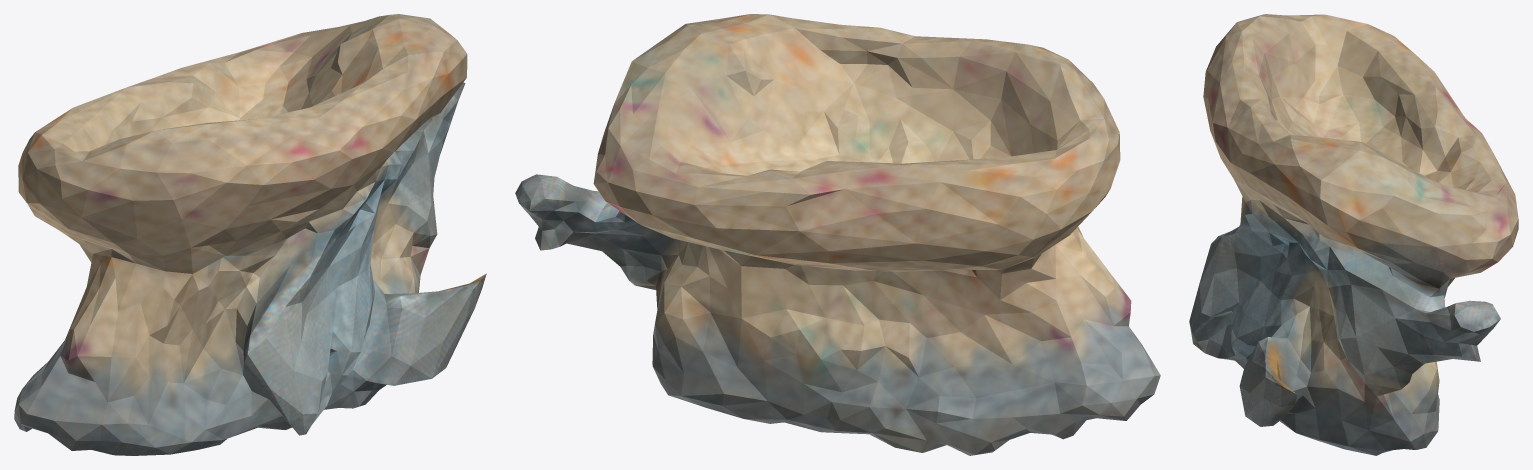
3 views of the same model, side by side, from view 1: azimuth 30°, elevation 25°; view 2: azimuth 150°, elevation 25°; view 3: azimuth 270°, elevation 25° (orthographic). The views are drawn at different scales.
Visible parts, largest first — view 1: Puppenschuh_2k_2k; view 2: Puppenschuh_2k_2k; view 3: Puppenschuh_2k_2k.
Boxes of the visible parts, left/top/right/bottom form: Puppenschuh_2k_2k: left=14, top=14, right=486, bottom=455; Puppenschuh_2k_2k: left=515, top=14, right=1160, bottom=455; Puppenschuh_2k_2k: left=1189, top=14, right=1518, bottom=455.
Bounding box in the file's own units: 0.0804 × 0.0497 × 0.0471.
1 material, 1 textured.
